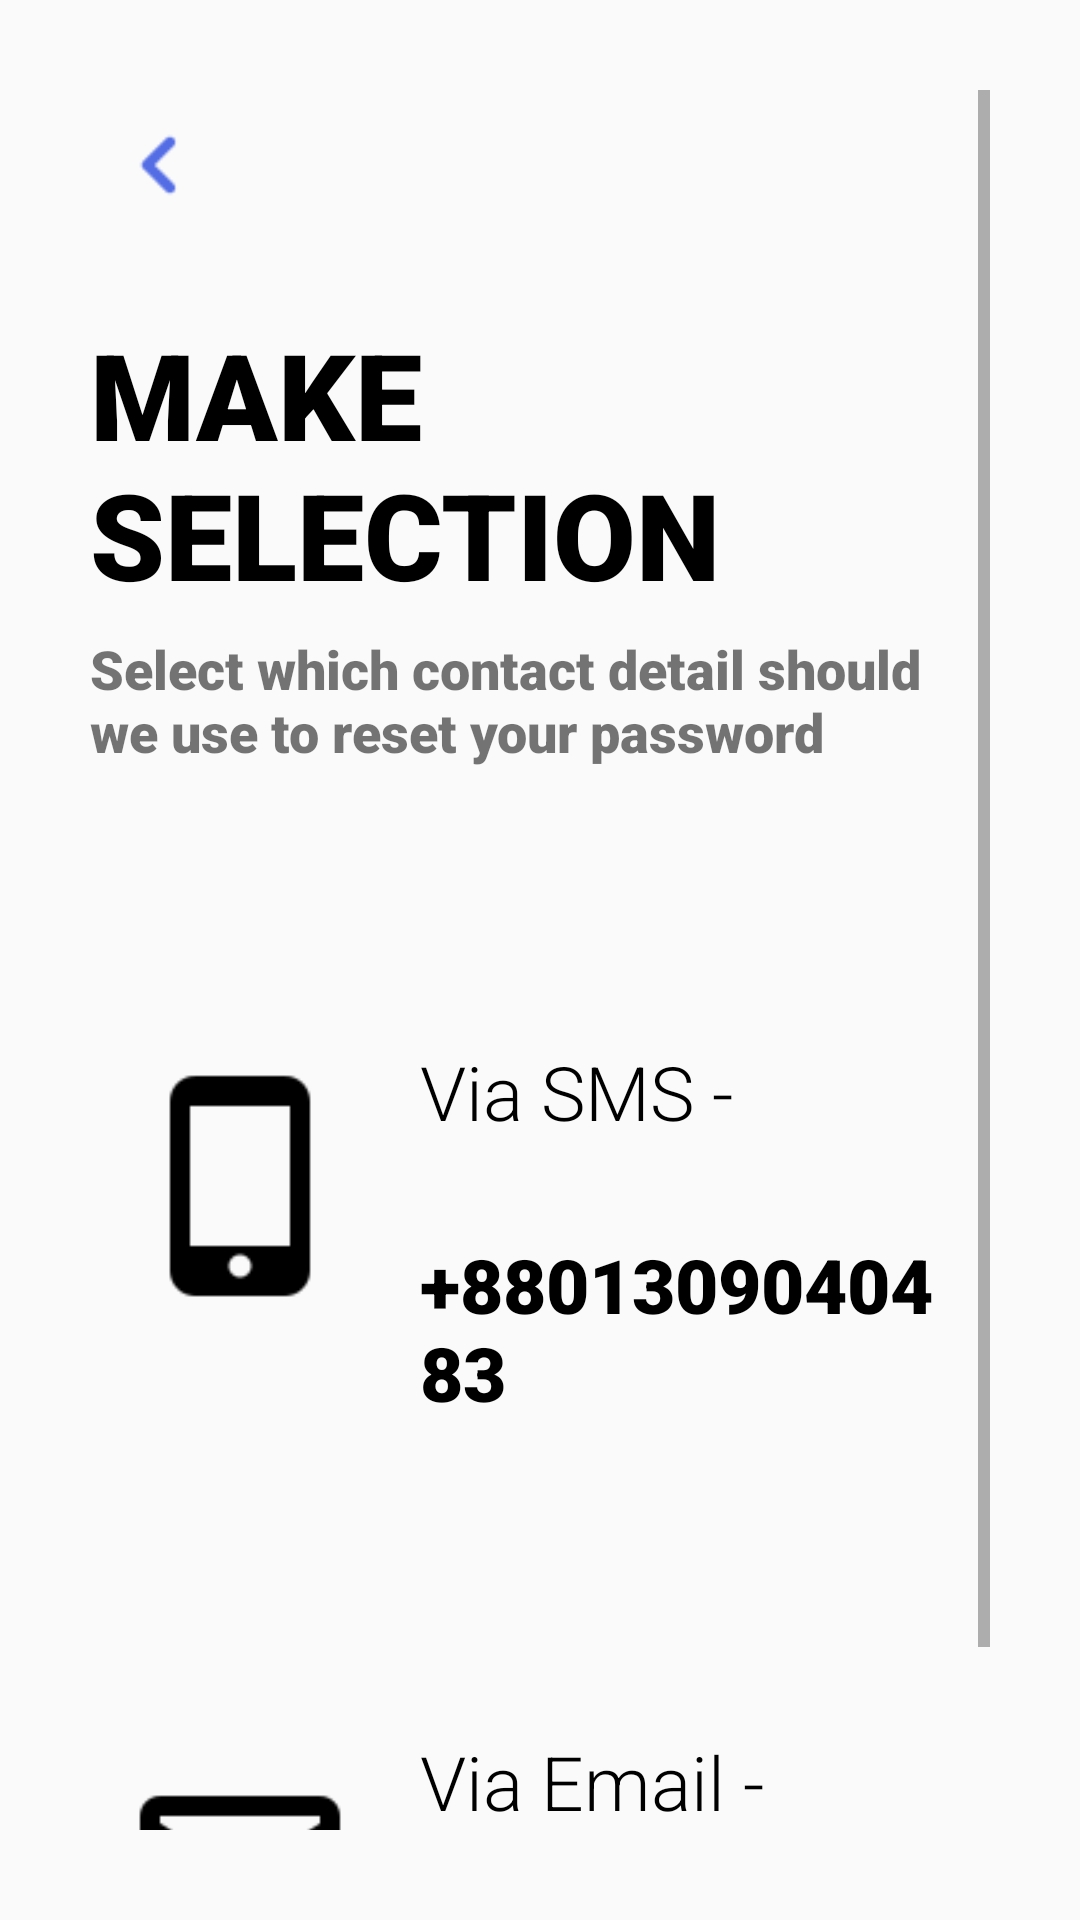

Icon bounding boxes for this 1080*1920 phone screenshot, format {"left": x1, "top": y1, "right": x2, "bottom": y2}:
iphone: {"left": 169, "top": 1075, "right": 311, "bottom": 1297}
